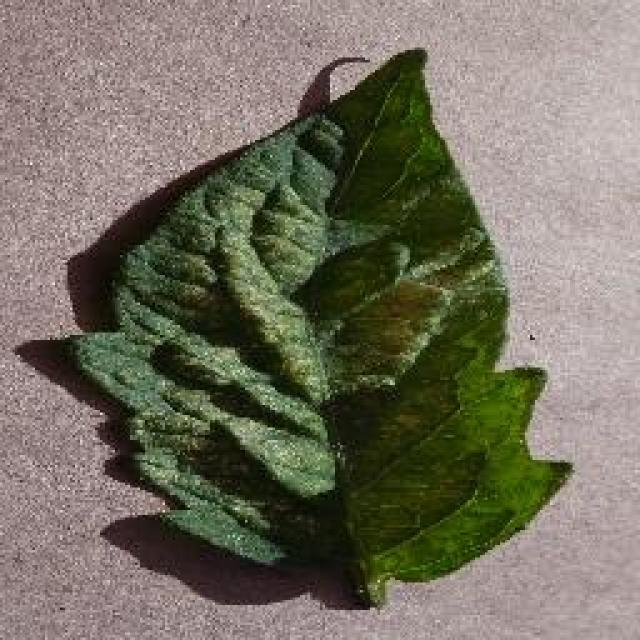Tomato___Spider_mites Two-spotted_spider_mite: (70, 50, 568, 605)
